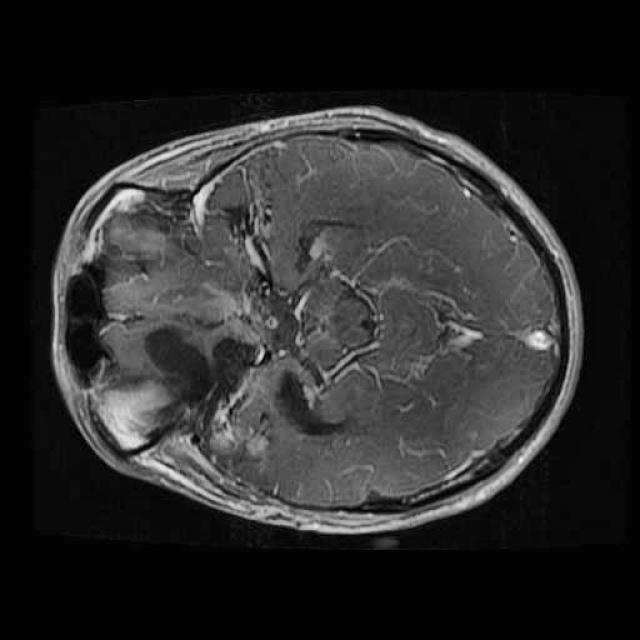Tumor: (71, 304, 285, 486)
